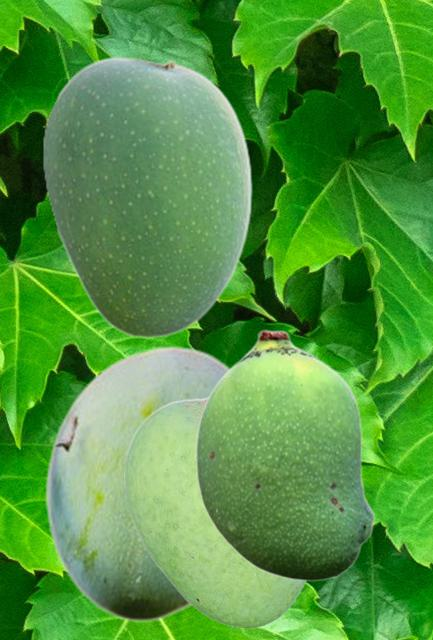green_mango: (42, 56, 252, 337), (44, 345, 230, 621), (195, 329, 374, 581), (124, 396, 308, 627)
